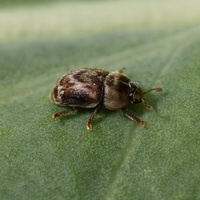insect: (51, 68, 162, 130)
